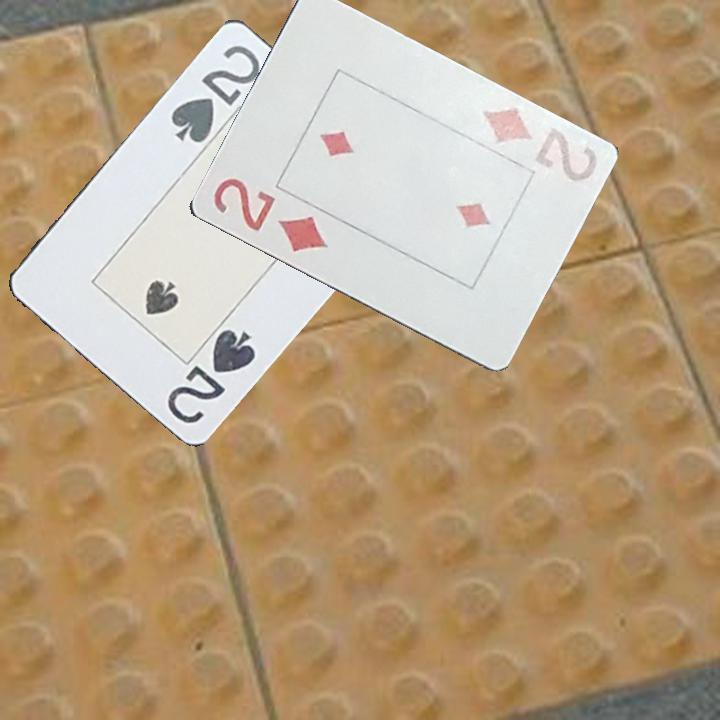2d: (474, 101, 601, 185), (206, 174, 331, 256)
2s: (167, 40, 263, 146), (163, 325, 259, 426)
